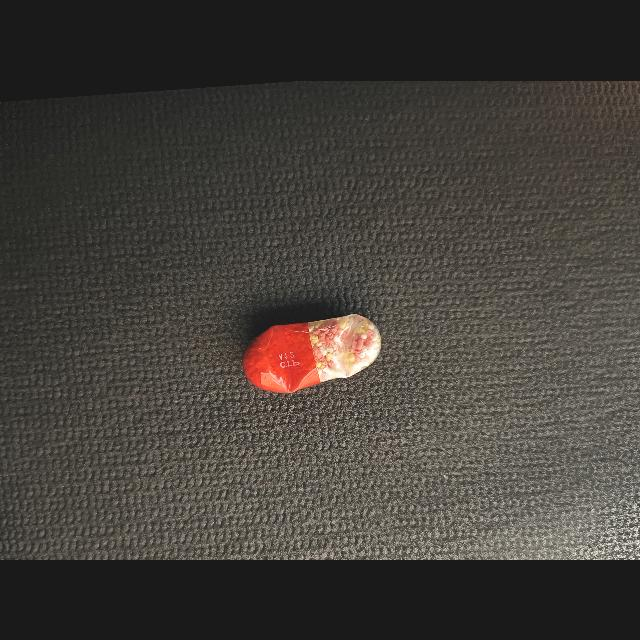Defective Capsule: (242, 313, 382, 393)
